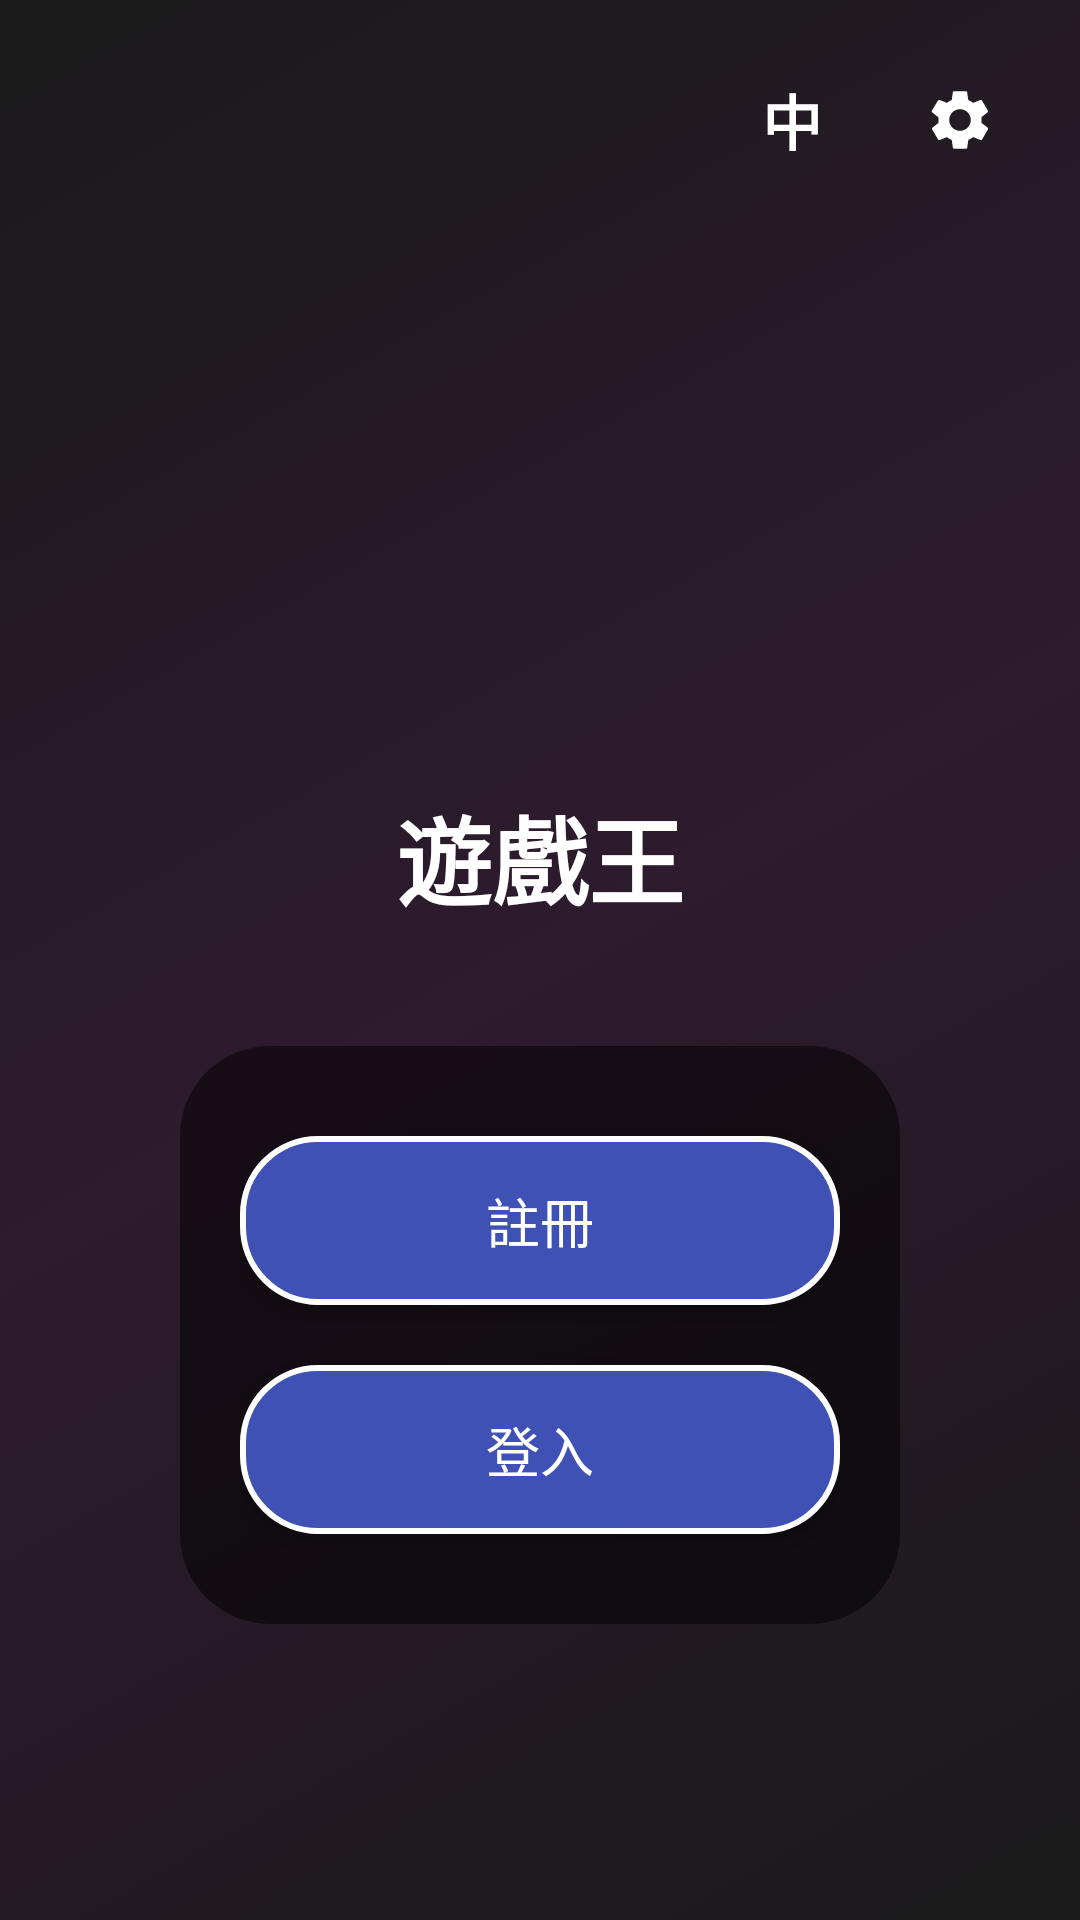

Where icons sit on this 1080×1920 app screen, as (x1, y1, x2, y2):
設置: (931, 91, 988, 149)
